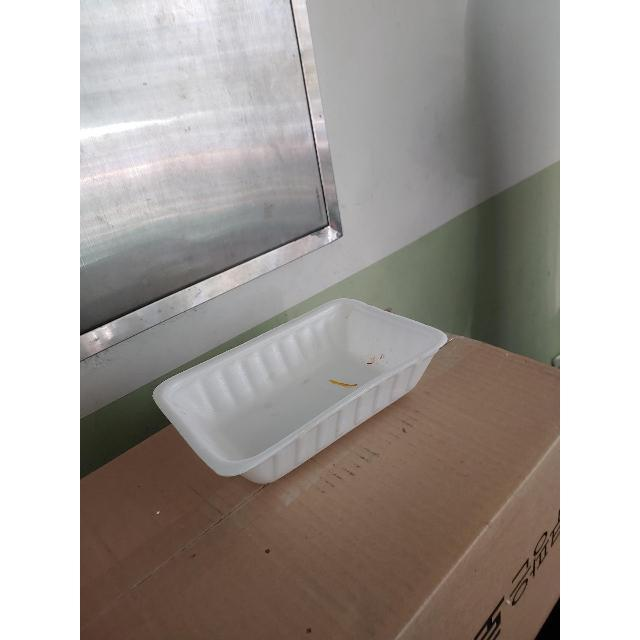Plastico descartable: (153, 299, 448, 486)
